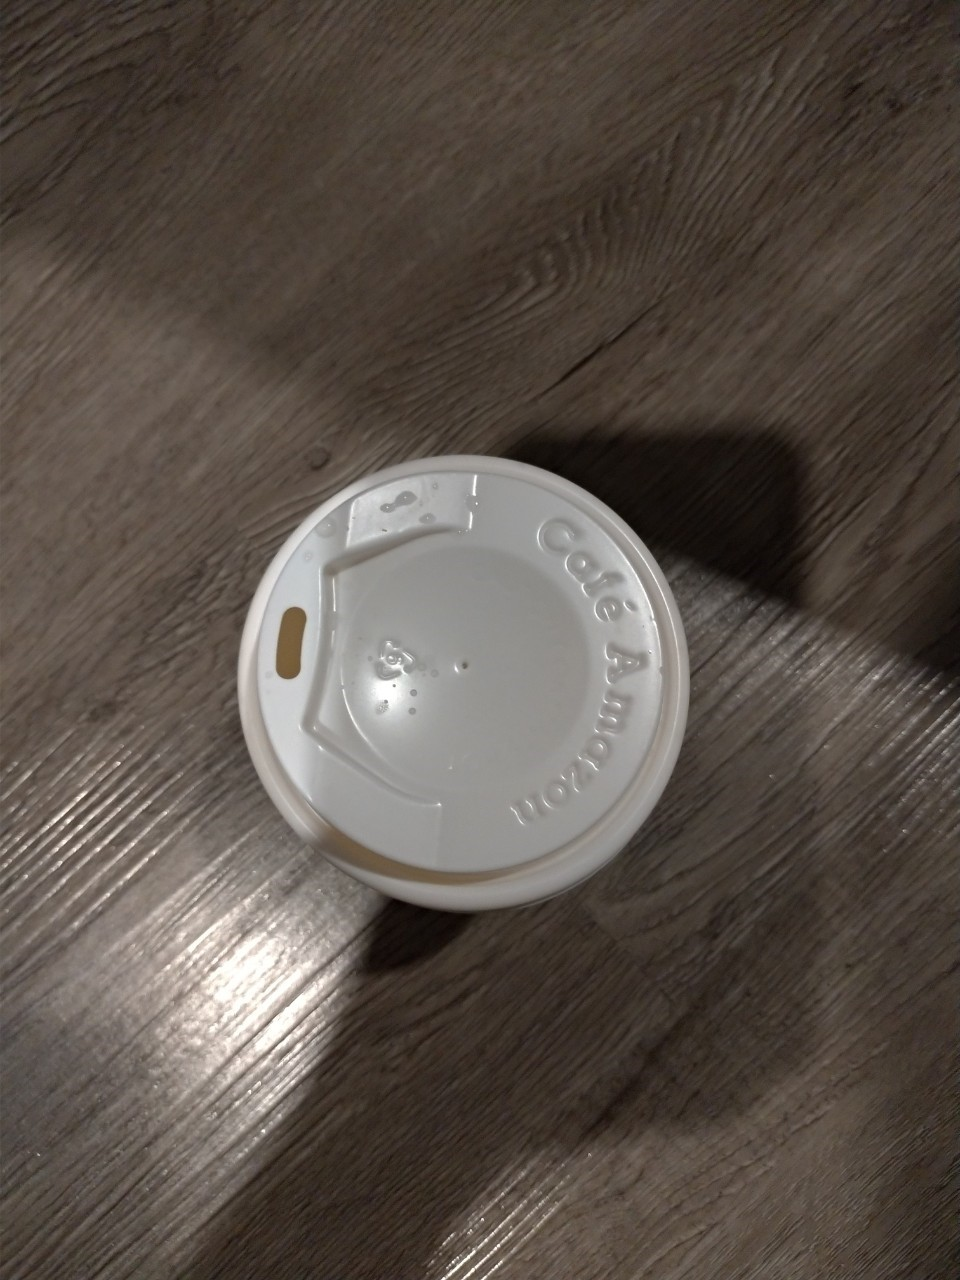PaperCup: (236, 451, 695, 910)
